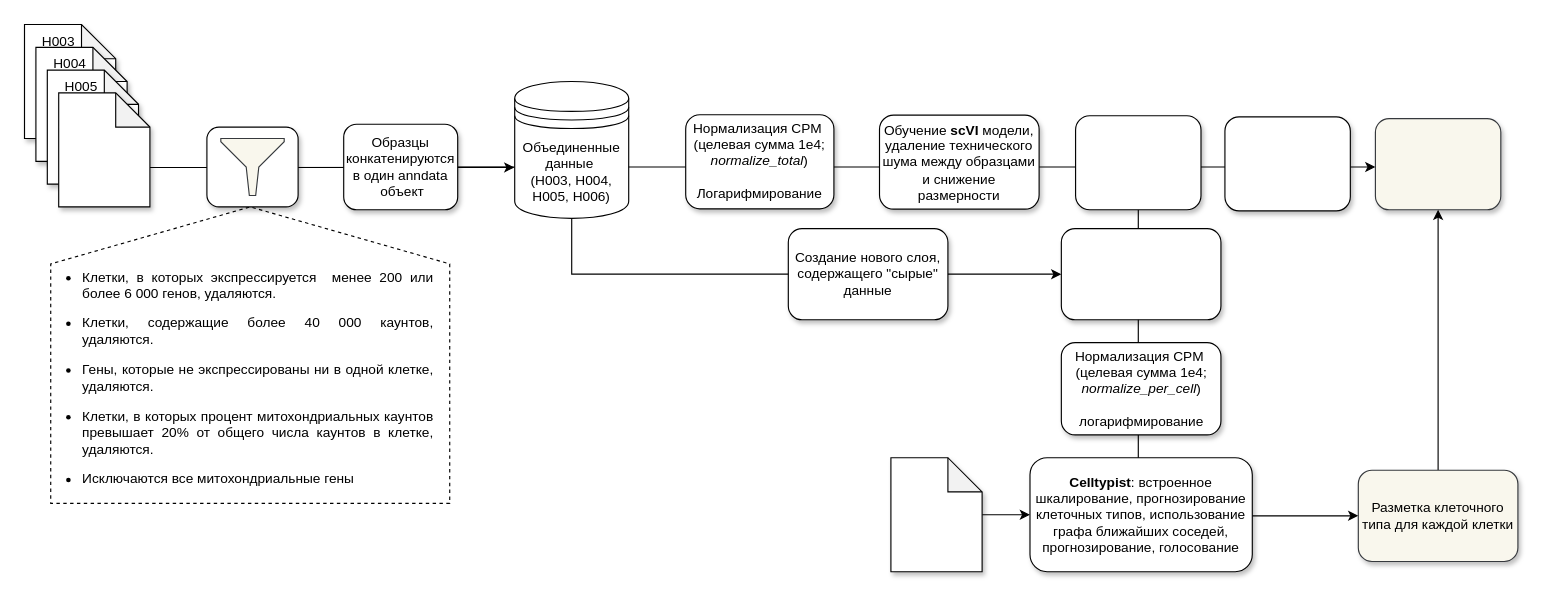
This 1545x600 diagram has some shape labels left out. The shapes that lost their labels are listed below. From the top down, each one's centre as x and y in pixels, then its label:
(105,151): H006
(1139,164): Построение графа ближайших соседей, UMAP преобразование
(1288,165): Шкалирование ( Z-оценка, обрезка до max = 10 )
(1439,165): Построение UMAP визуализации
(1142,275): Создание копии объекта, основанной на сырых данных
(937,516): Adult_Mouse _Gut.pkl
